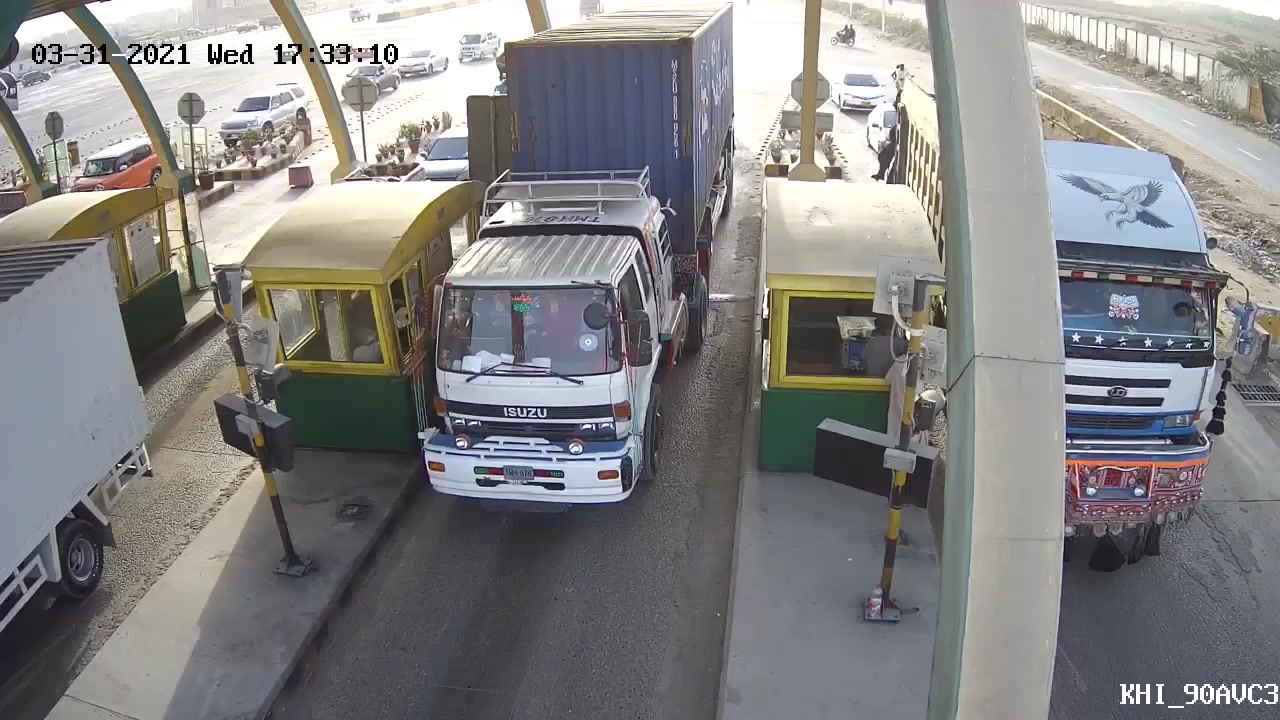F6: (420, 1, 745, 527)
